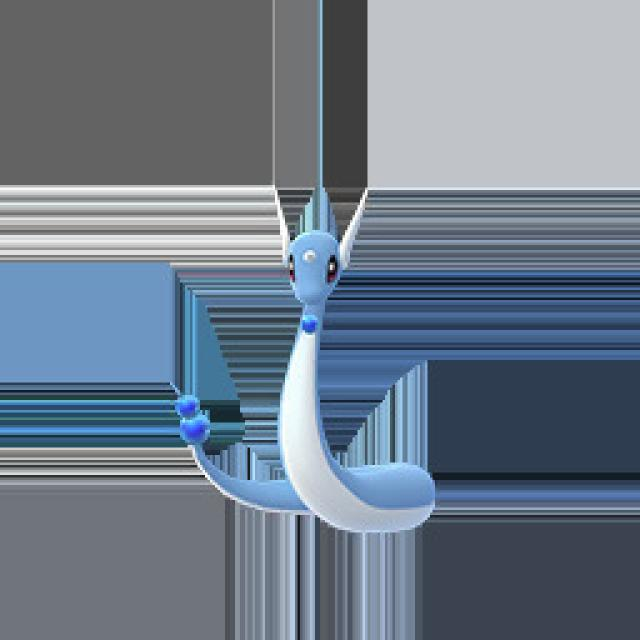Dragonair: (183, 184, 441, 534)
